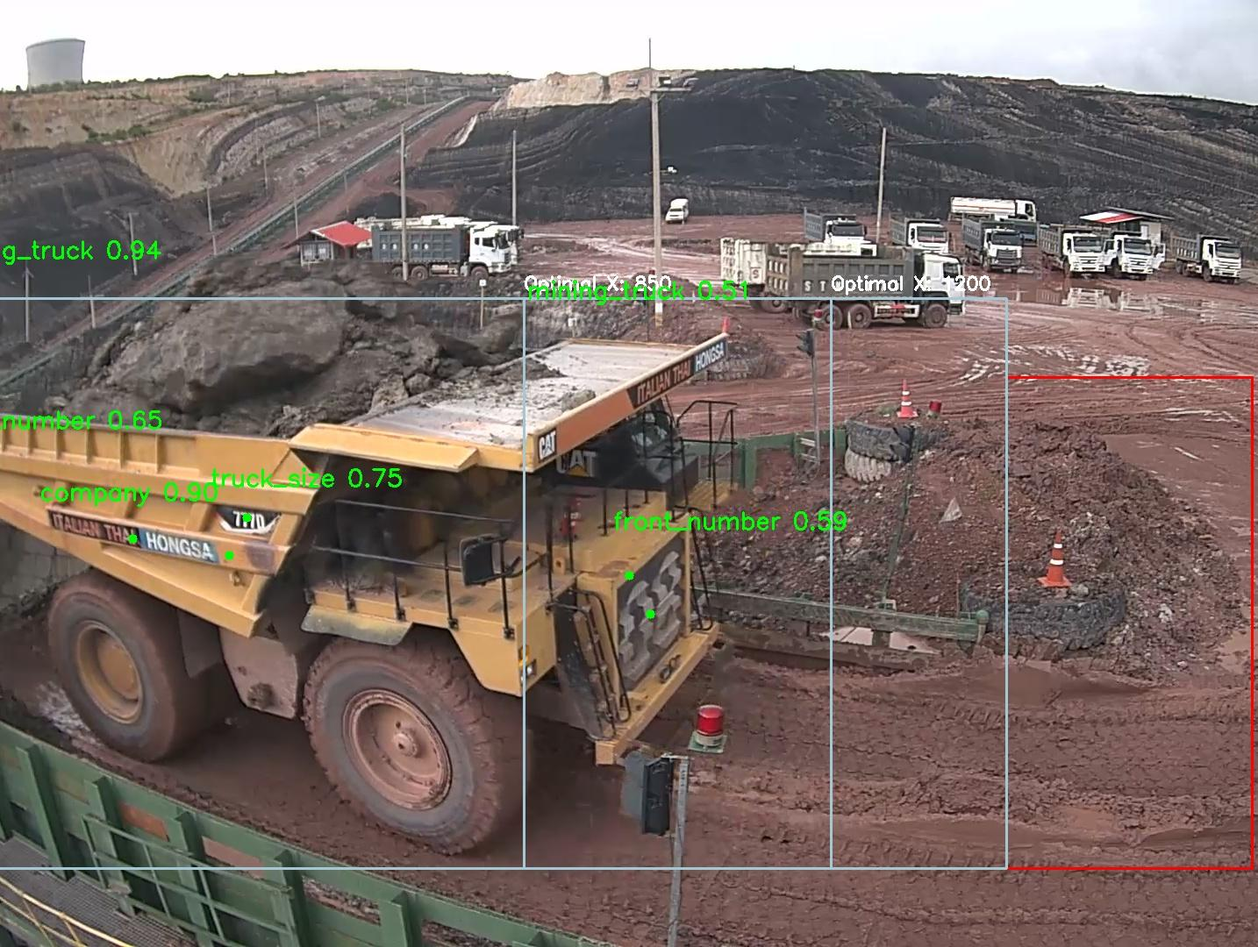company: (41, 504, 222, 576)
full_load: (137, 259, 445, 465)
mining_truck: (3, 242, 742, 853)
truck_size: (211, 496, 272, 540)
